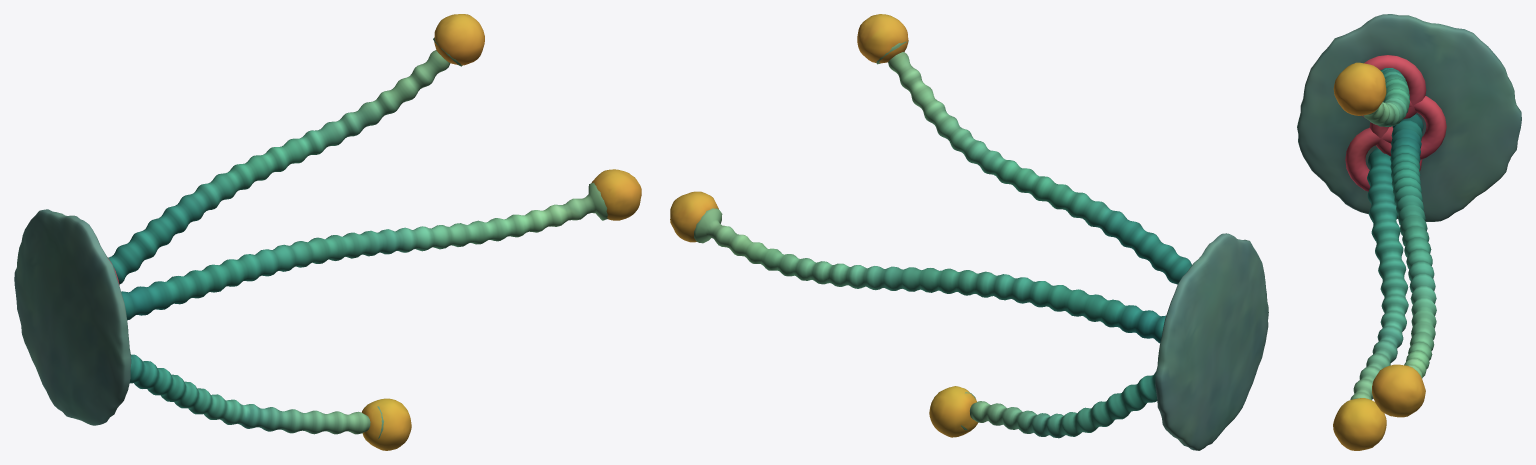
File: pilus.glb
The picture shows the model from 3 angles, left to right: view 1: azimuth 30°, elevation 25°; view 2: azimuth 150°, elevation 25°; view 3: azimuth 270°, elevation 25°; orthographic projection. The views are drawn at different scales.
Visible parts, largest first — view 1: pilus-shafts, pilus-base, pilus-tips; view 2: pilus-shafts, pilus-base, pilus-tips; view 3: pilus-base, pilus-shafts, pilus-tips.
Boxes of the visible parts, x1,y1,x2,y2 form: pilus-shafts: (108, 37, 607, 438); pilus-base: (14, 209, 131, 425); pilus-tips: (361, 14, 641, 450); pilus-shafts: (694, 41, 1191, 438); pilus-base: (1155, 233, 1268, 450); pilus-tips: (670, 14, 978, 437); pilus-base: (1297, 14, 1521, 221); pilus-shafts: (1350, 68, 1436, 400); pilus-tips: (1333, 62, 1425, 450).
Size of what is drawn, in the model's own units: 3.31 by 2.29 by 1.11.
